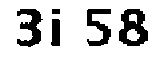3: (14, 6, 41, 48)
5: (81, 4, 115, 53)
8: (118, 6, 155, 50)
i: (48, 5, 70, 51)
